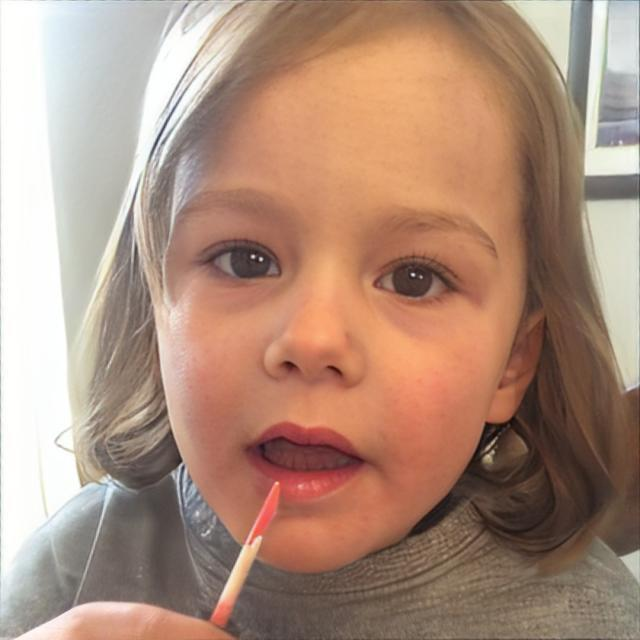surprise: (158, 9, 527, 578)
